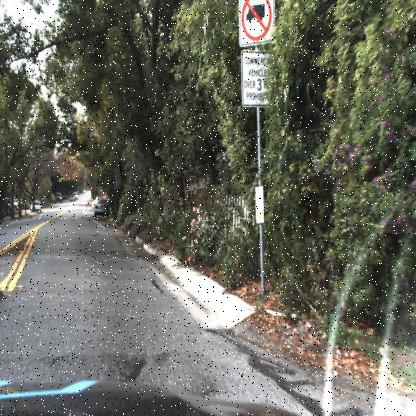car: (94, 193, 116, 222), (93, 193, 112, 221)
